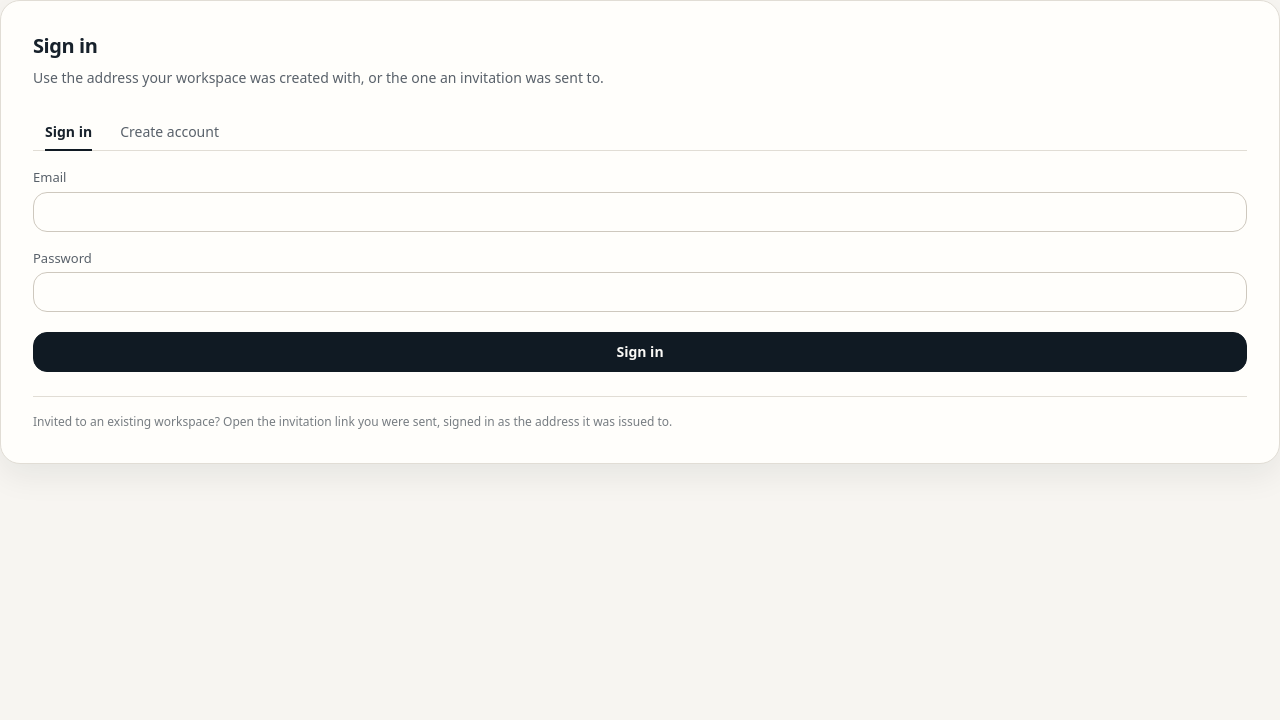
Test: the registration form › refuses a password below the minimum, without asking the server
Click the tab "Create account" at (170, 132), box [108,113,231,150]
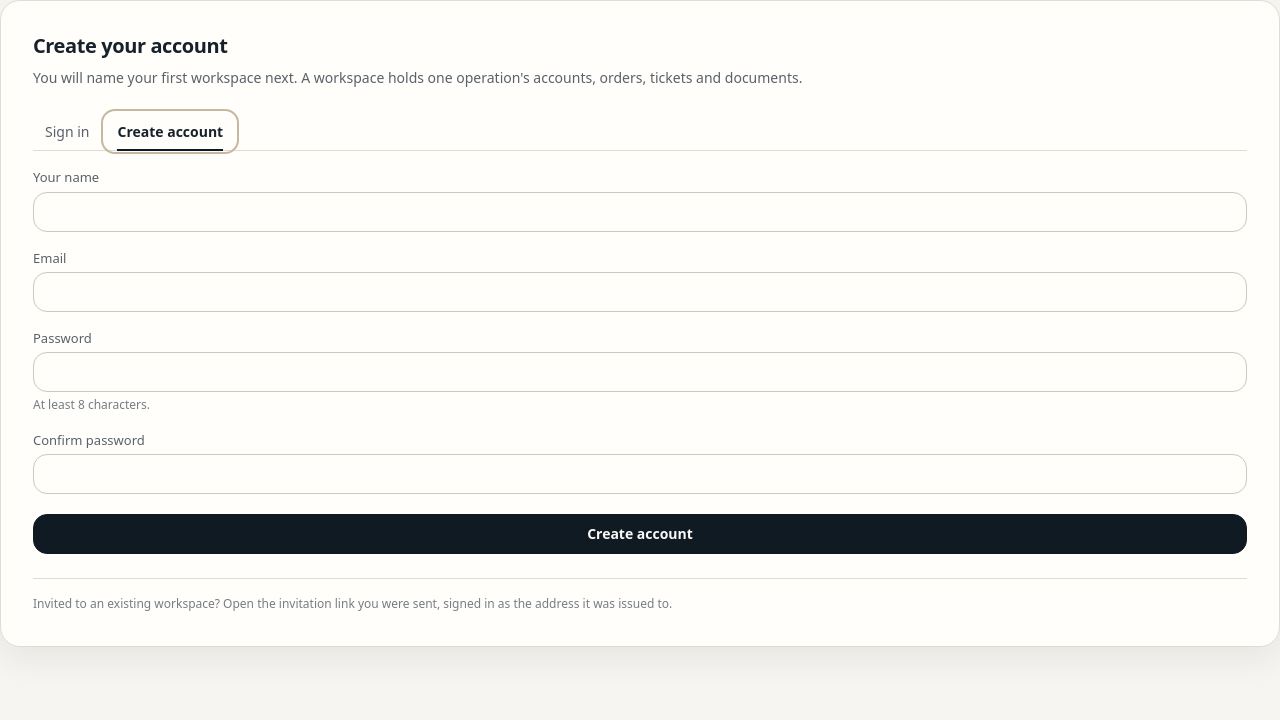
Type "Ada Lovelace" into the field labelled "Your name" at (640, 212), box [33,192,1247,232]
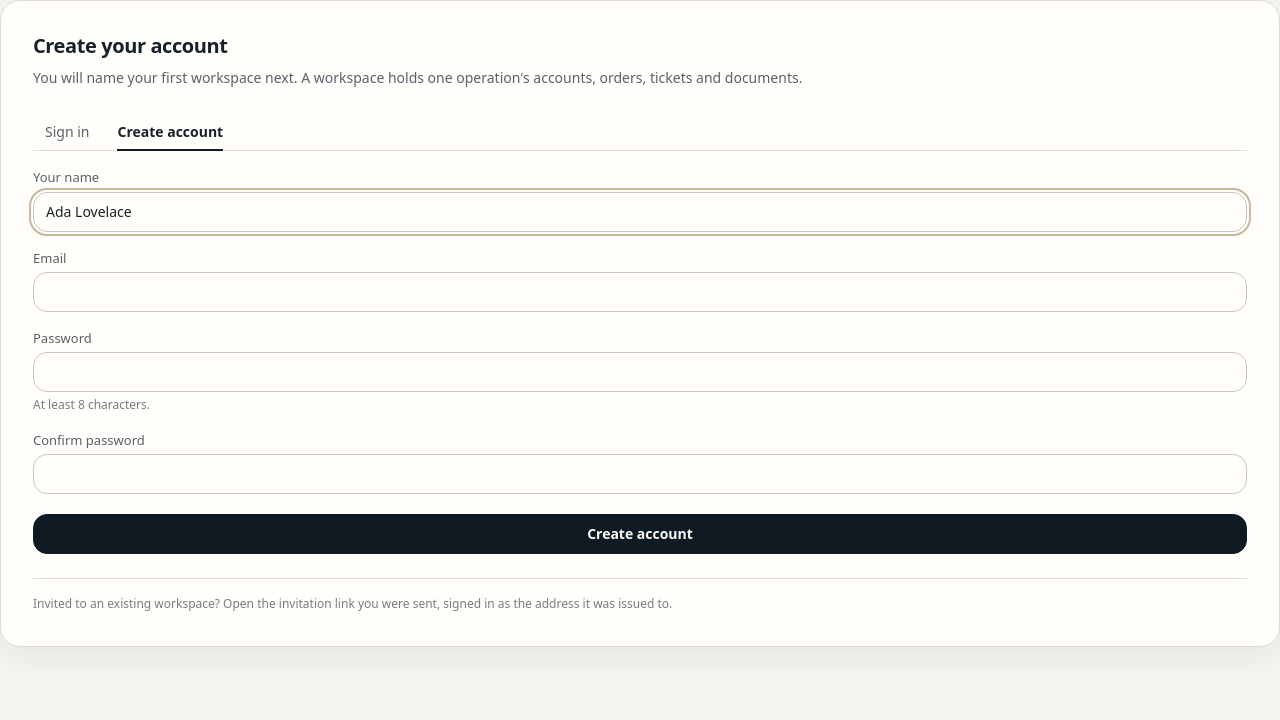
Type "ada@example.com" into the field labelled "Email" at (640, 292), box [33,272,1247,312]
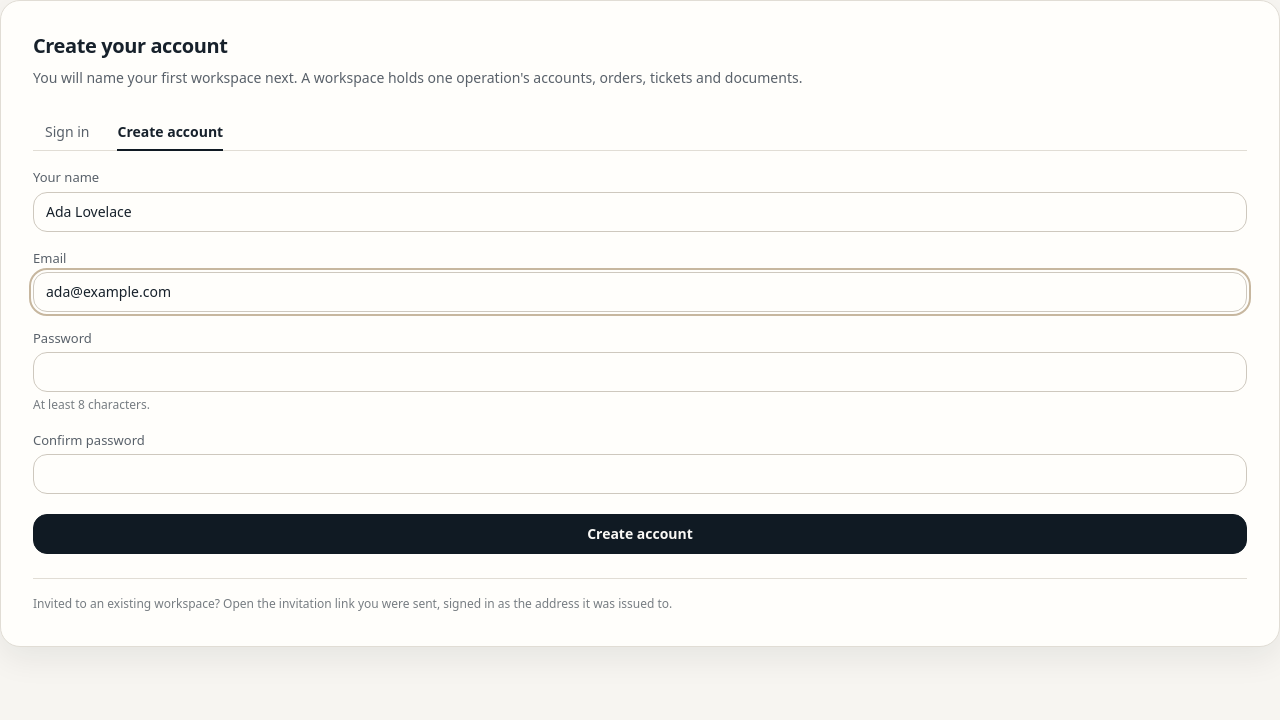
Type "sevench" into the password field labelled "Password" at (640, 372), box [33,352,1247,392]
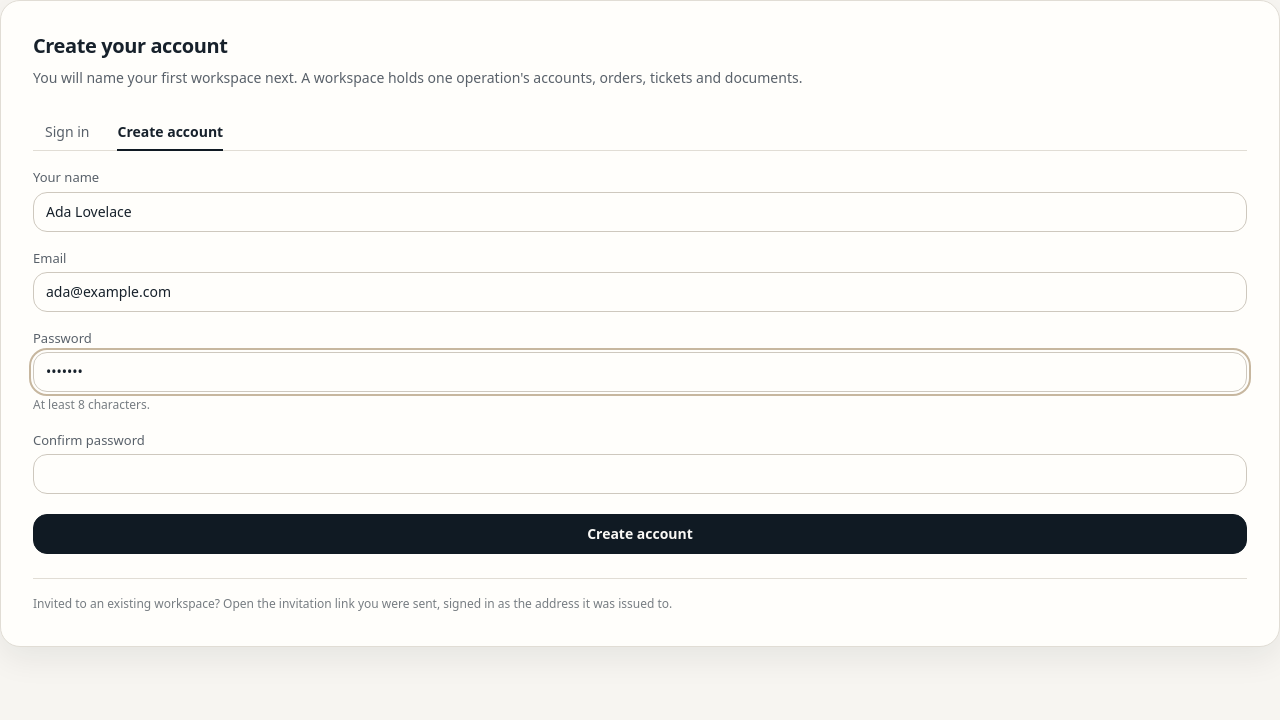
Type "sevench" into the password field labelled "Confirm password" at (640, 474), box [33,454,1247,494]
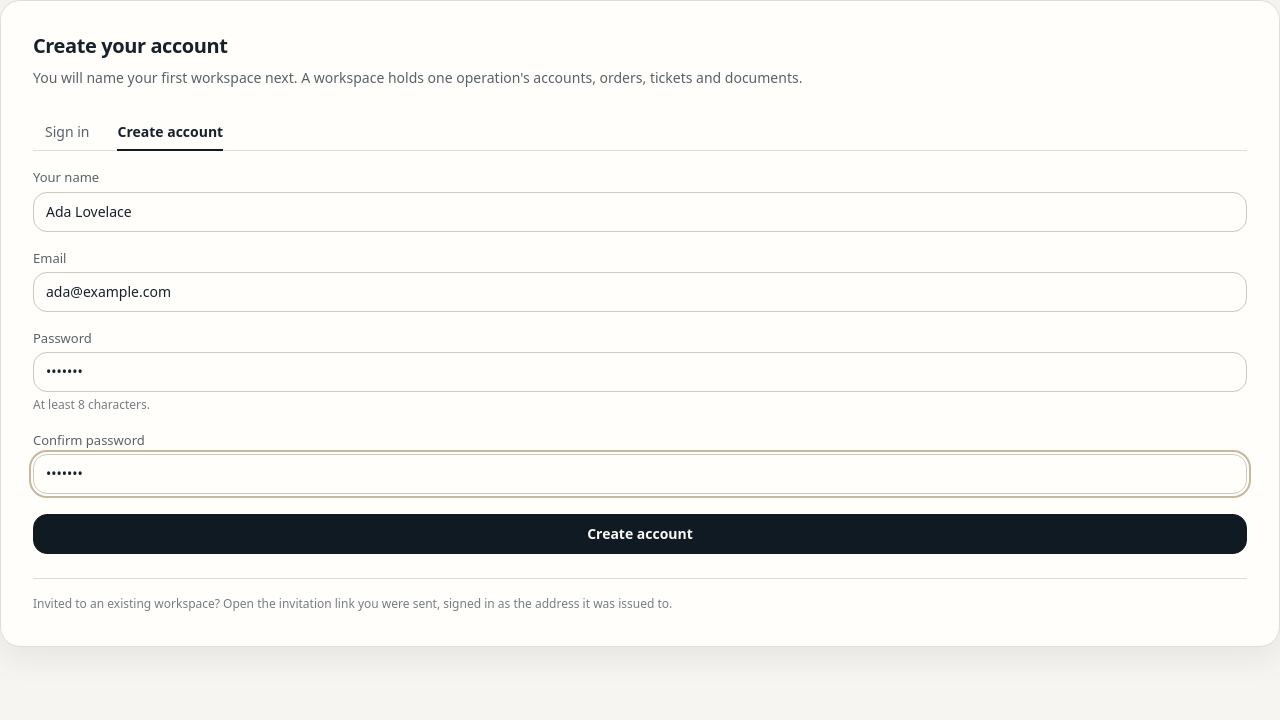
Click the button "Create account" at (640, 534), box [33,514,1247,554]
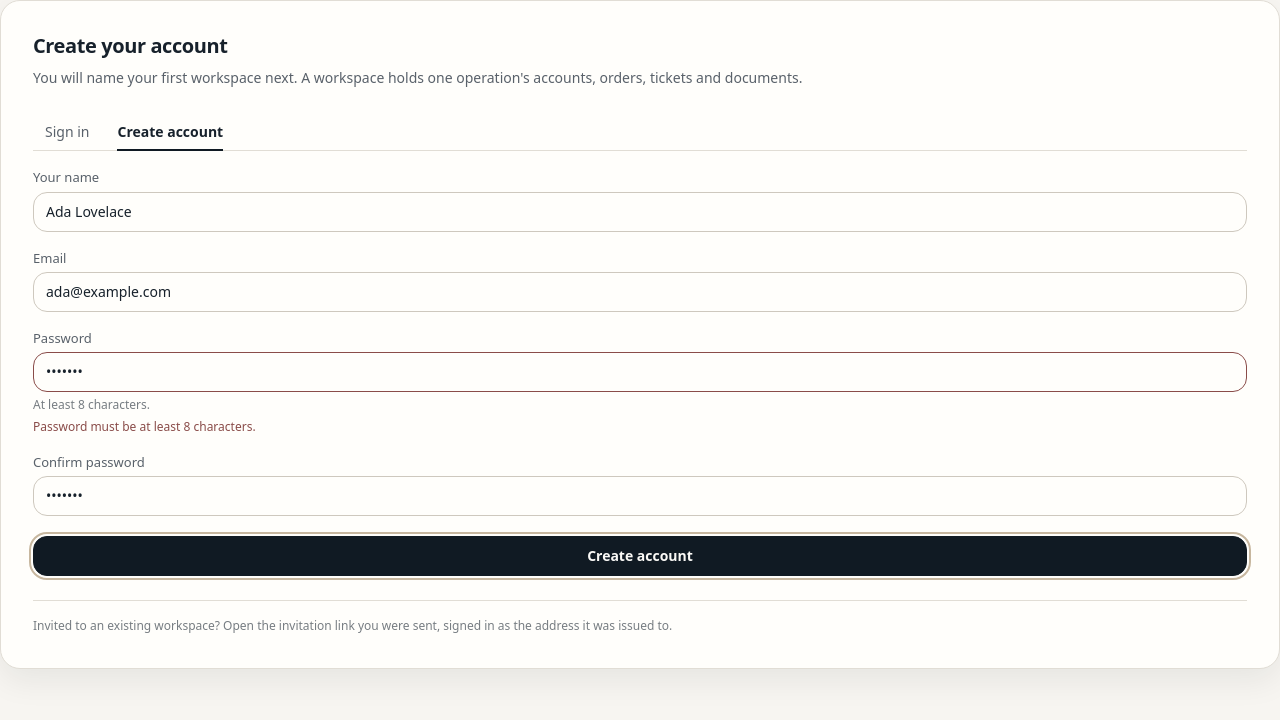
Result: the text "Password must be at least 8 characters." is shown at [33,418,256,435]
